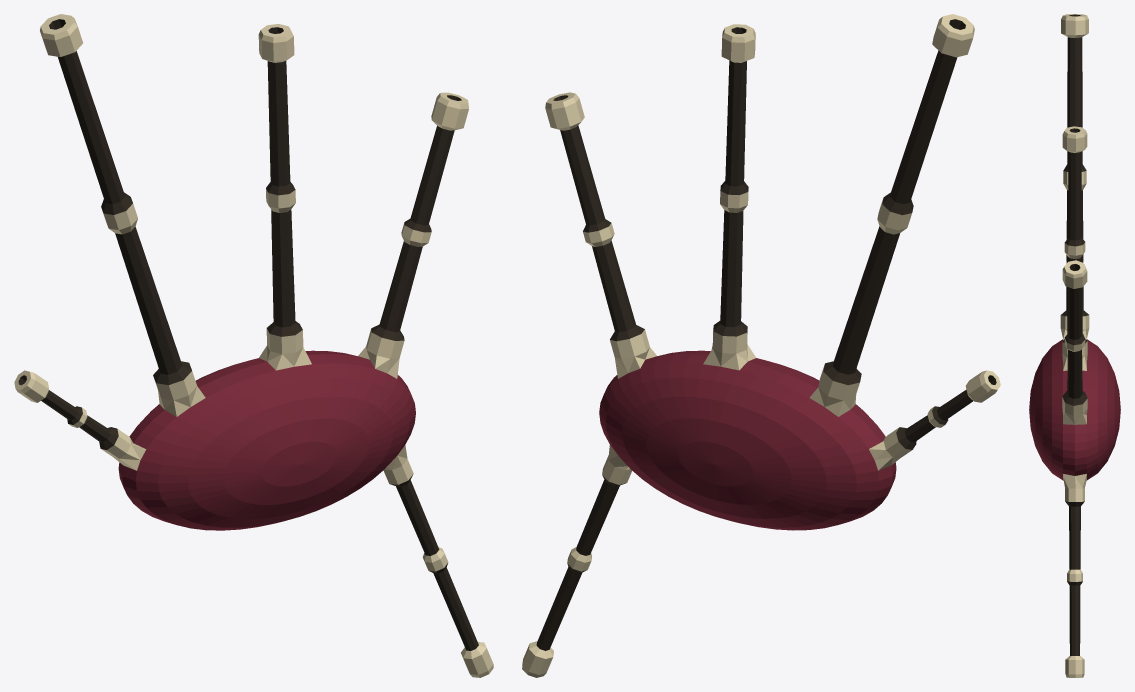
The model's file is NEW_RECOVERY_051_LOD0.glb.
3 views of the same model, side by side, from view 1: azimuth 30°, elevation 25°; view 2: azimuth 150°, elevation 25°; view 3: azimuth 270°, elevation 25° (orthographic). The views are drawn at different scales.
Parts seen in each view (by area): view 1: Bagpipes; view 2: Bagpipes; view 3: Bagpipes.
Part boxes in pixels (<box>): Bagpipes: <box>14,14,493,677</box>; Bagpipes: <box>522,14,1000,677</box>; Bagpipes: <box>1029,14,1120,677</box>.
Size of the model in its own units: 1.57 by 2.4 by 0.38.
